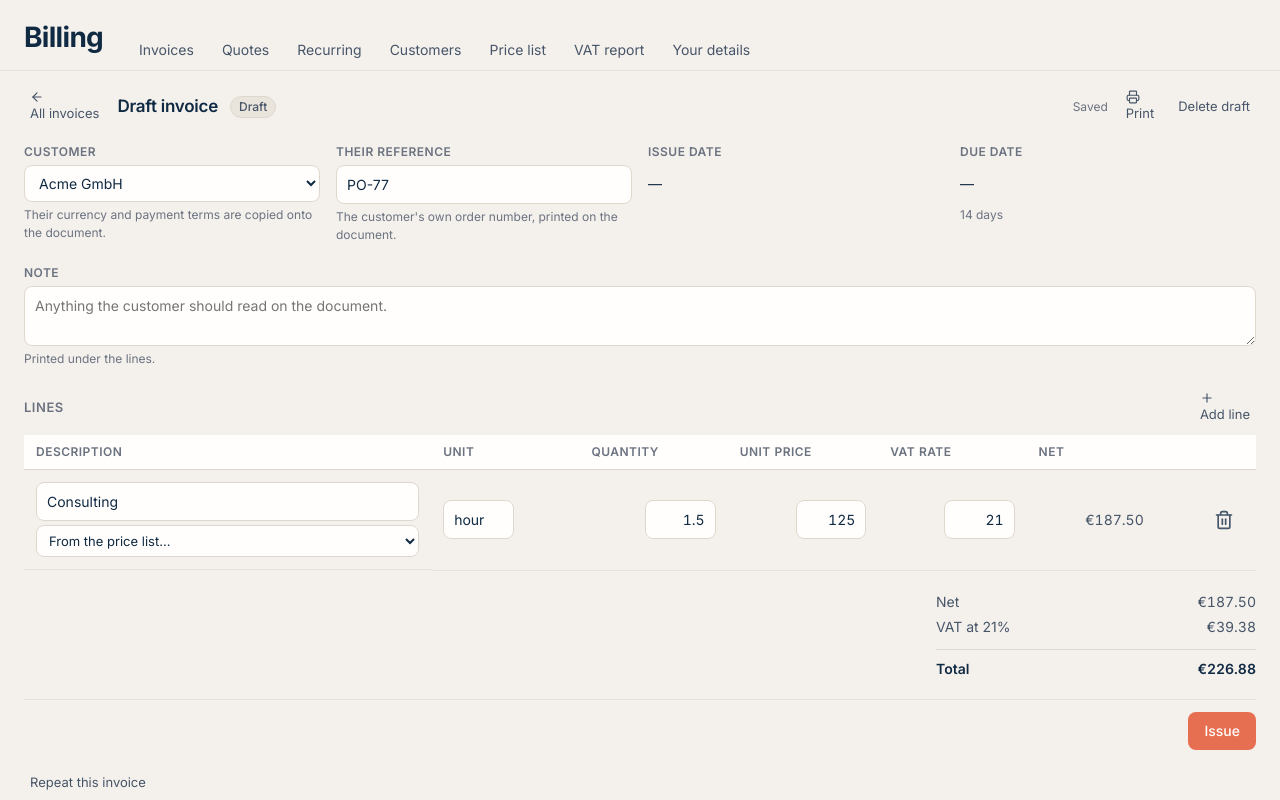
Test: the lifecycle actions › issuing says what it will do, spends nothing until confirmed, and freezes
The image size is (1280, 800).
Expected: the text "€226.88" is shown, x1=1197 y1=658 x2=1256 y2=678
Click the button "Issue": (1222, 730) x1=1188 y1=712 x2=1256 y2=750
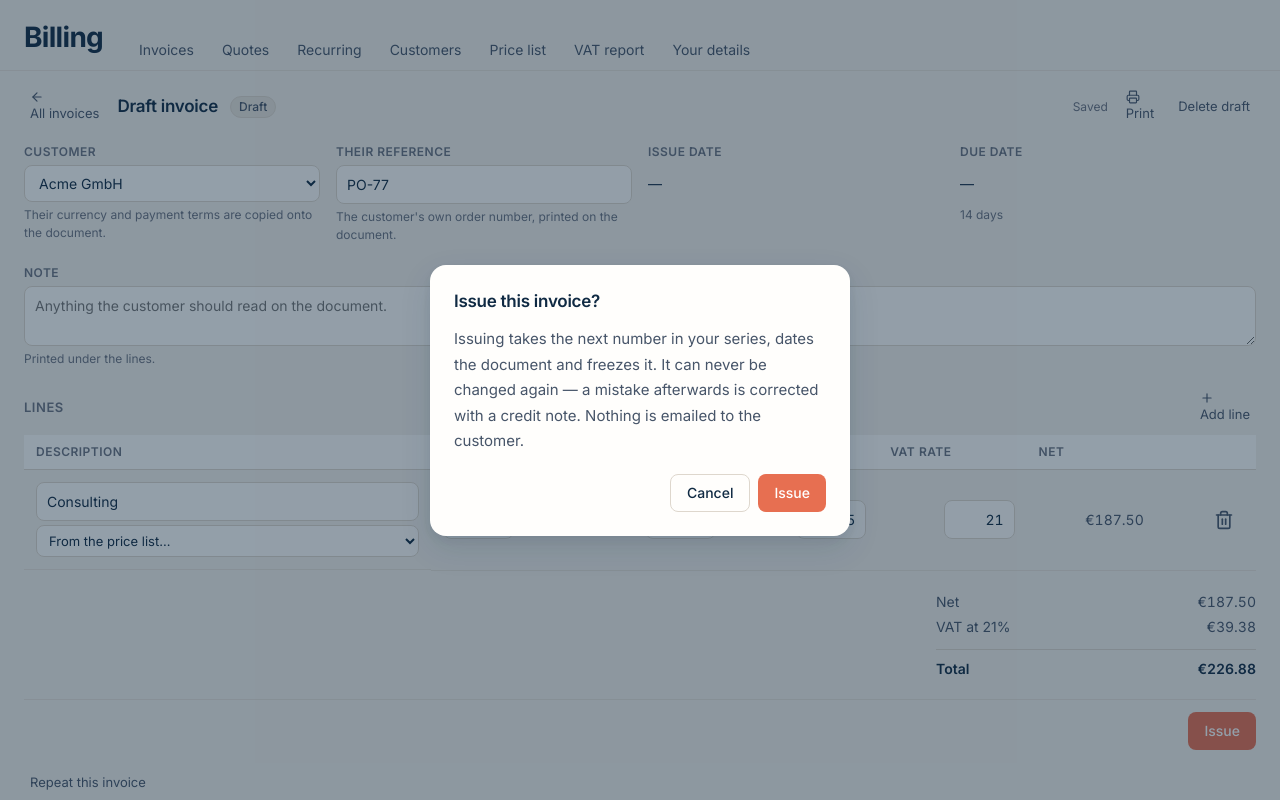
Now the text "Issuing takes the next number in your series, dates the document and freezes it. It can never be changed again — a mista" is shown, box x1=454 y1=329 x2=823 y2=450
Click the button "Cancel": (710, 492) x1=670 y1=474 x2=750 y2=512
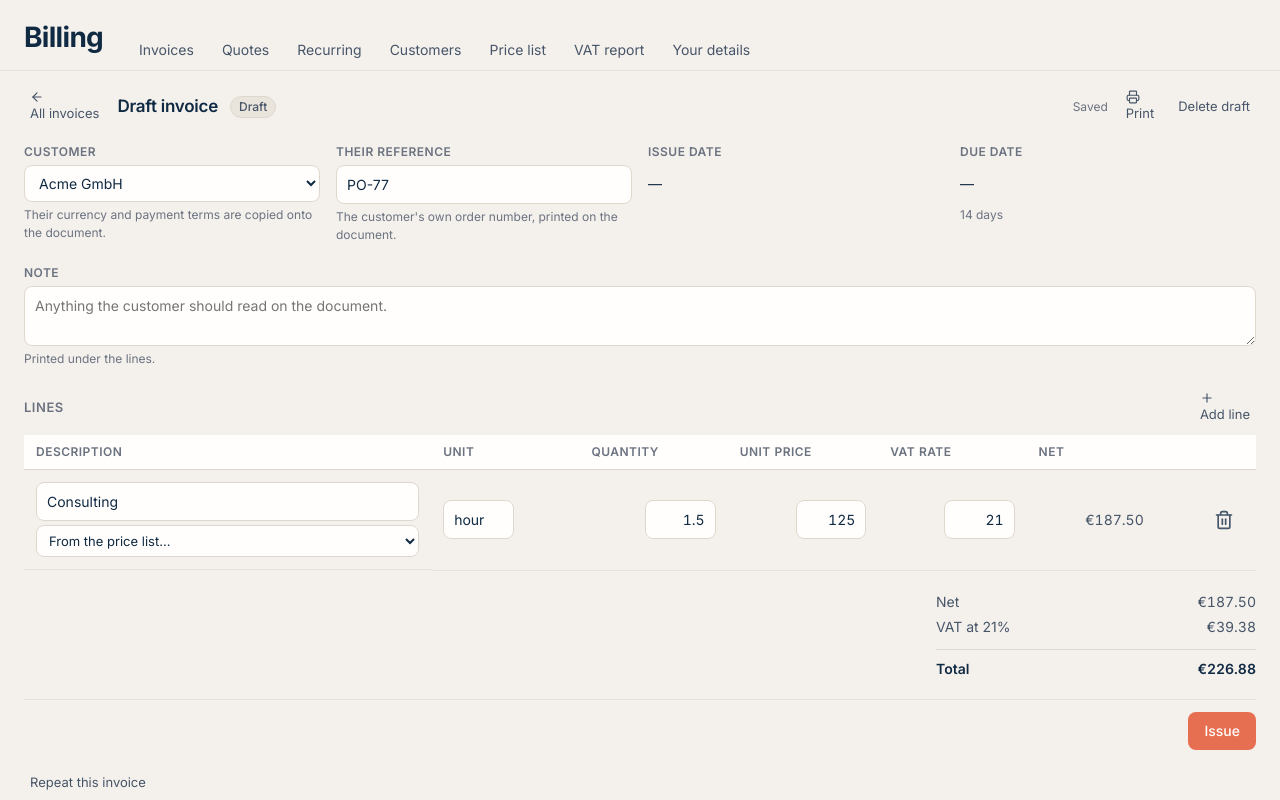
Now the text "Issuing takes the next number in your series, dates the document and freezes it. It can never be changed again — a mista" is gone
Click the button "Issue": (1222, 730) x1=1188 y1=712 x2=1256 y2=750
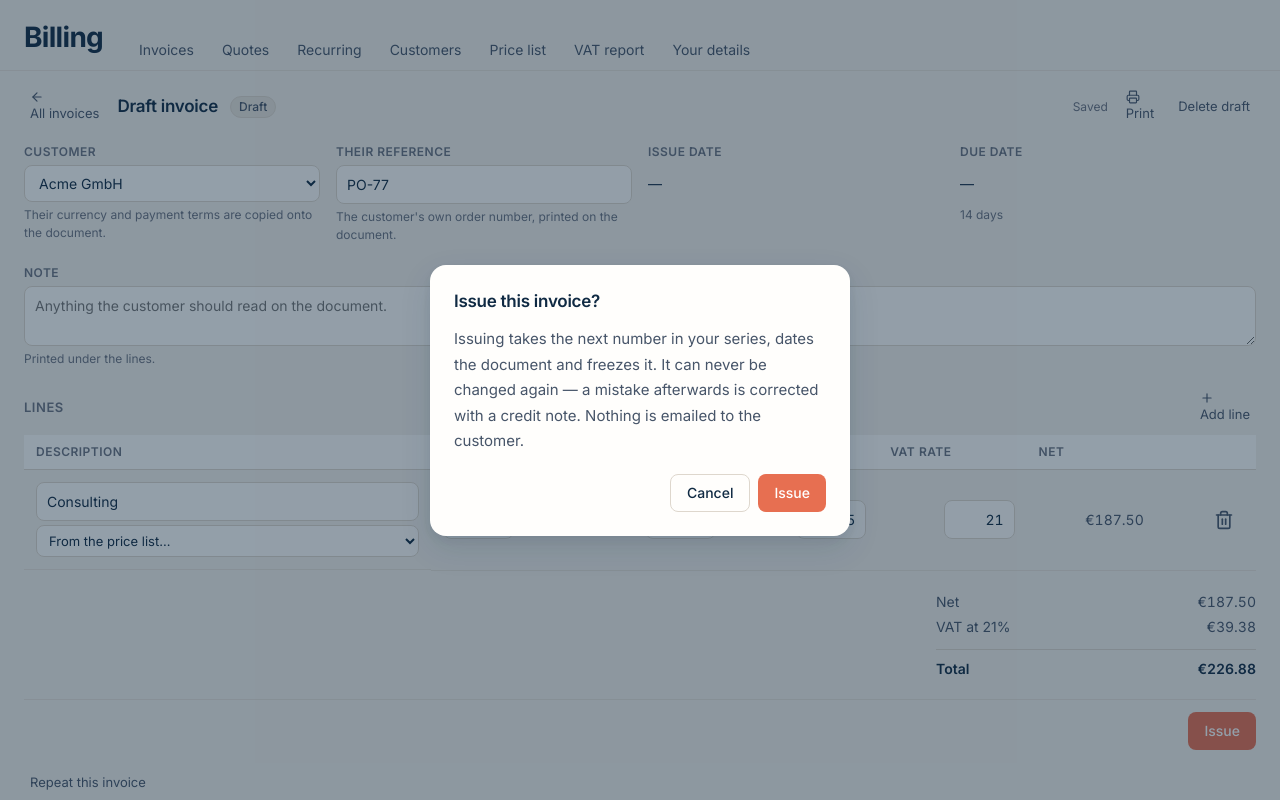
Now the text "Issuing takes the next number in your series, dates the document and freezes it. It can never be changed again — a mista" is shown, box x1=454 y1=329 x2=823 y2=450
Click the button "Issue": (792, 492) x1=758 y1=474 x2=826 y2=512
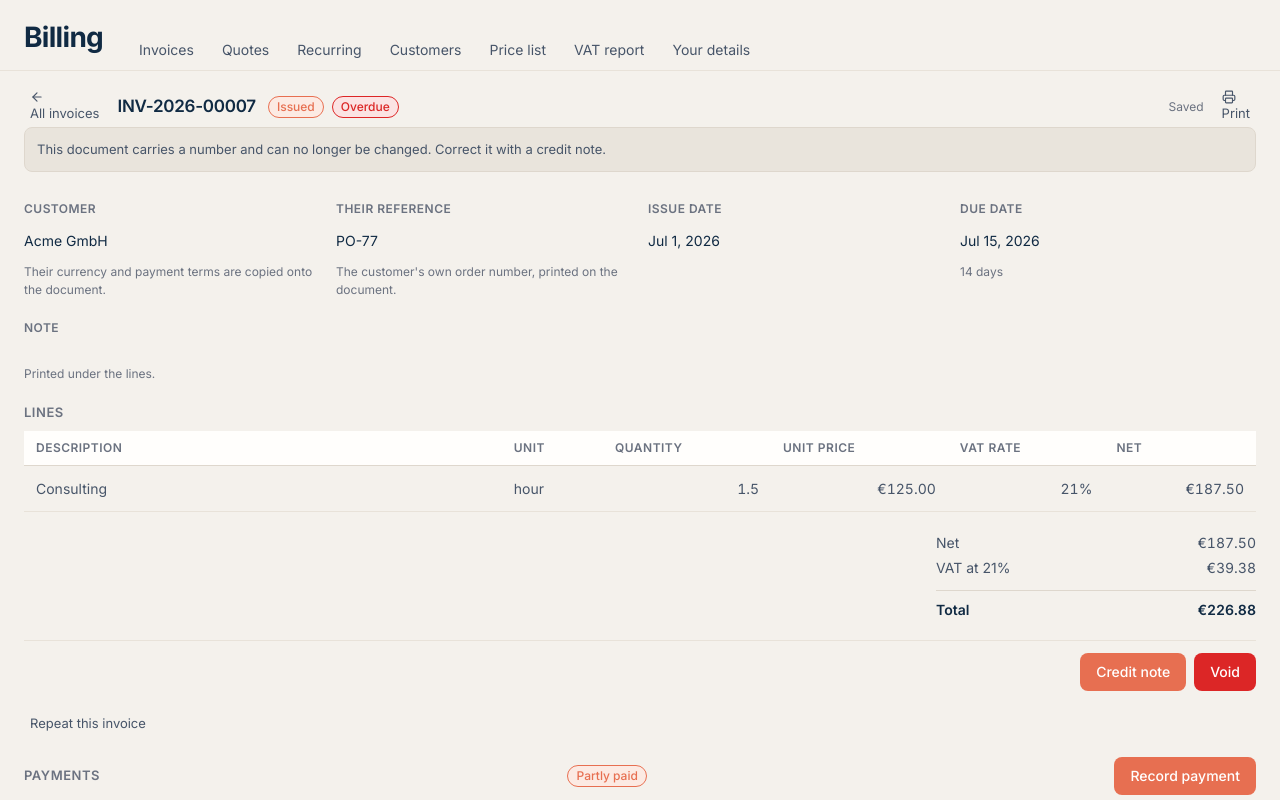
Now the heading "INV-2026-00007" is shown, box x1=117 y1=94 x2=256 y2=120
Now the text "This document carries a number and can no longer be changed. Correct it with a credit note." is shown, box x1=37 y1=140 x2=606 y2=156
